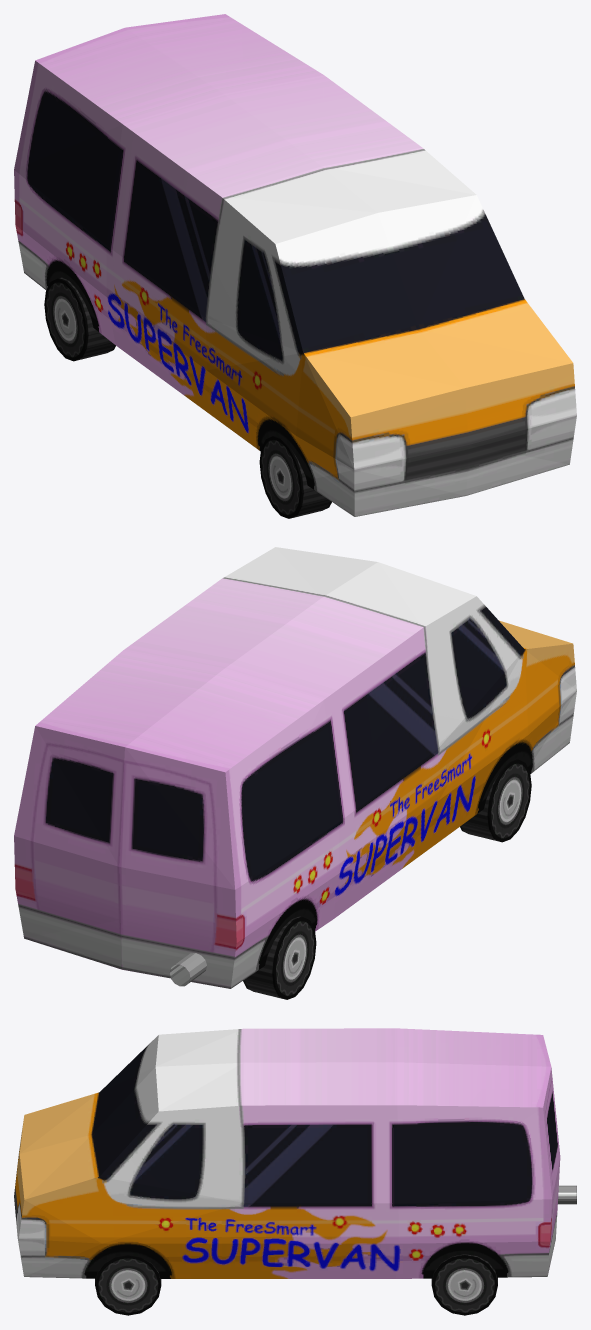
Rendered from freesmart_van.glb.
3 views of the same model, one above another, from view 1: azimuth 30°, elevation 25°; view 2: azimuth 150°, elevation 25°; view 3: azimuth 270°, elevation 25° (orthographic). The views are drawn at different scales.
Visible parts, largest first — view 1: Object_2; view 2: Object_2; view 3: Object_2.
Part boxes in pixels (x1,y1,x2,y2): Object_2: (14, 14, 576, 518); Object_2: (14, 547, 576, 999); Object_2: (14, 1028, 576, 1315).
Size of the model in its own units: 1.88 by 2.07 by 5.04.
Materials: 1 (1 with a texture image).
